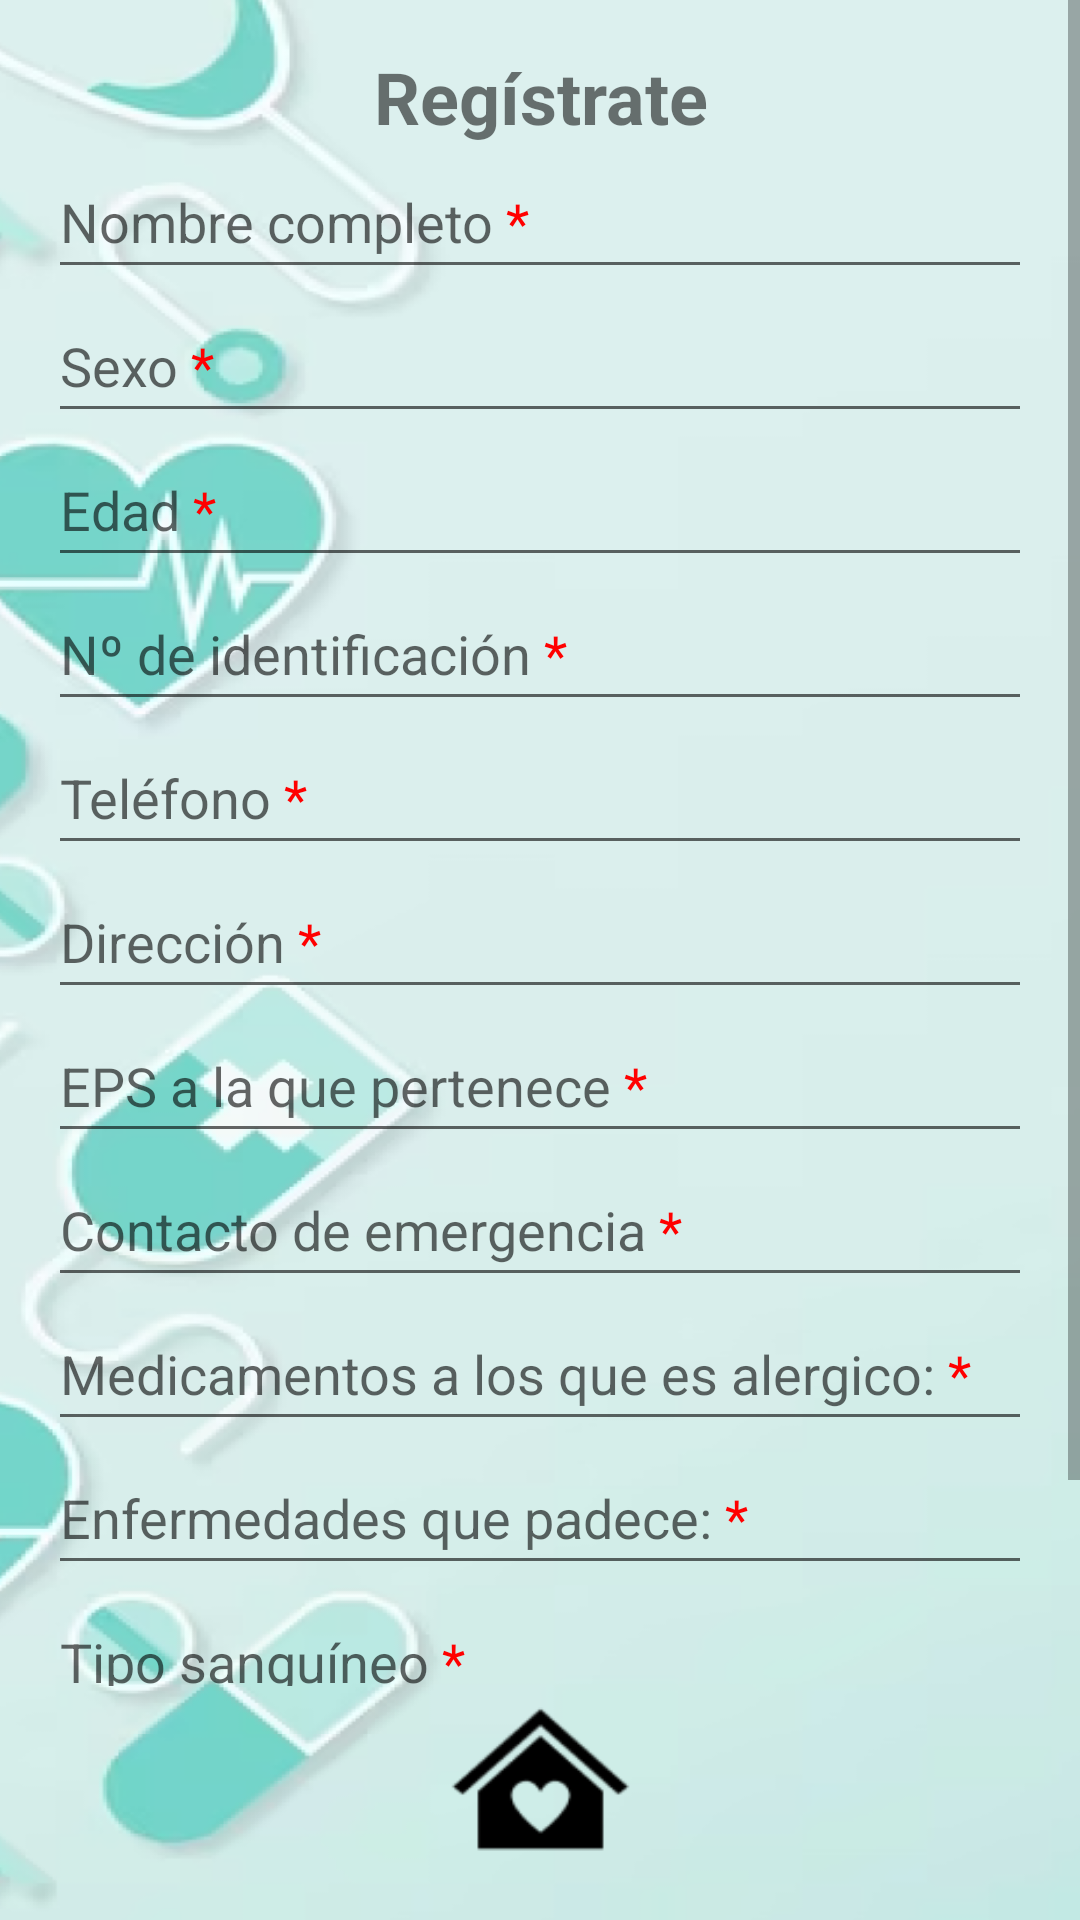

Screen size 1080×1920. Icon name, then its box in pixels as [x1, y1, x2, y2]:
home: [452, 1709, 629, 1851]
